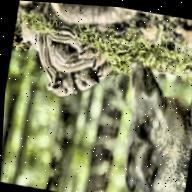boar: (114, 54, 192, 192), (30, 47, 91, 113), (60, 50, 115, 100)
